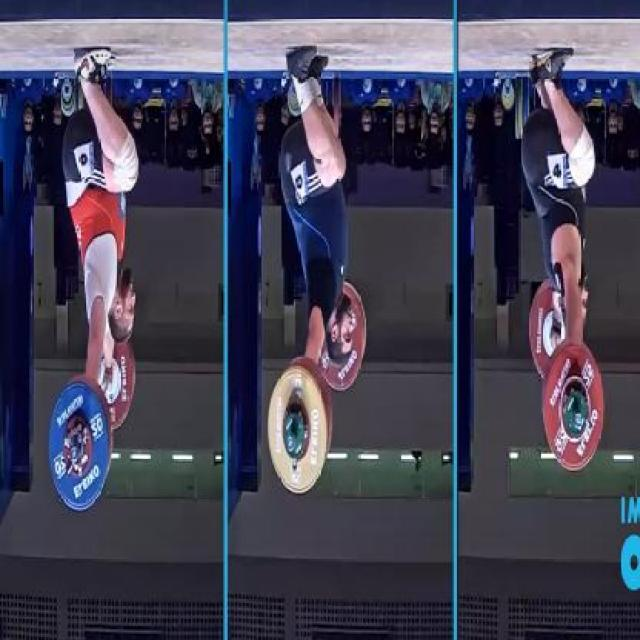Barbell: (283, 430, 297, 456), (67, 442, 81, 467), (572, 405, 586, 430)
